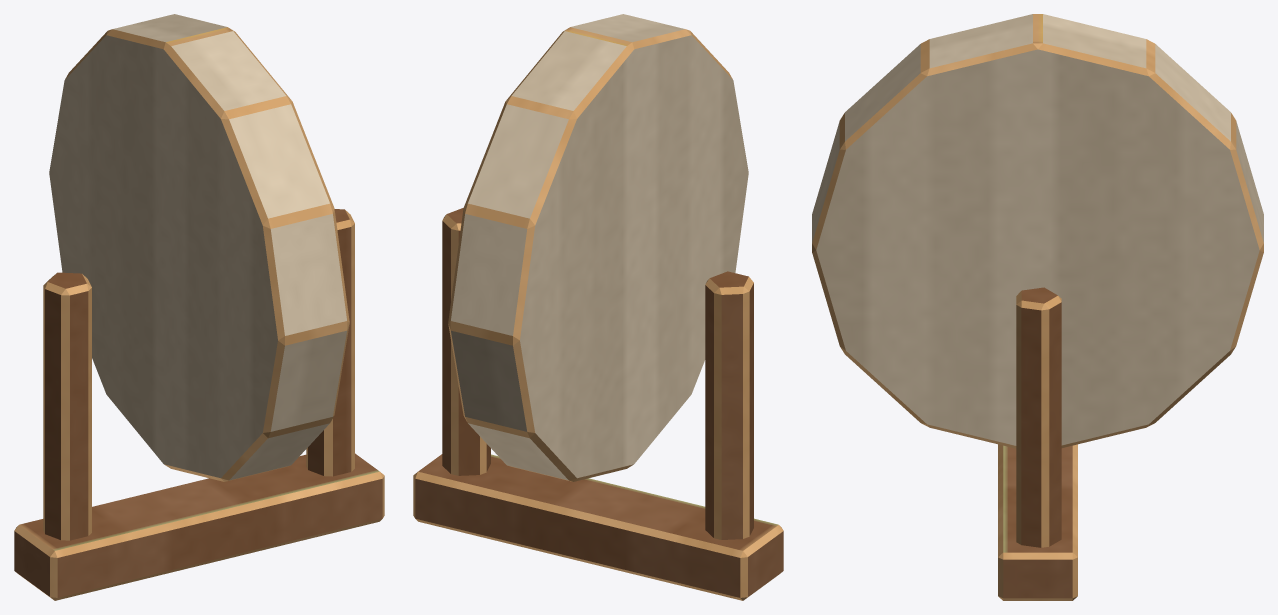
Rendered from sm_prop_grindstone.glb.
The picture shows the model from 3 angles, left to right: view 1: azimuth 30°, elevation 25°; view 2: azimuth 150°, elevation 25°; view 3: azimuth 270°, elevation 25°; orthographic projection. The views are drawn at different scales.
Visible parts, largest first — view 1: sm_prop_grindstone; view 2: sm_prop_grindstone; view 3: sm_prop_grindstone.
Boxes of the visible parts, x1,y1,x2,y2 form: sm_prop_grindstone: (14,14,384,600); sm_prop_grindstone: (413,14,783,600); sm_prop_grindstone: (812,14,1263,600).
Bounding box in the file's own units: 0.28 × 0.409 × 0.3379.
Materials: 1 (1 with a texture image).
